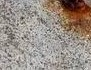Corrosion: (42, 1, 91, 41)
